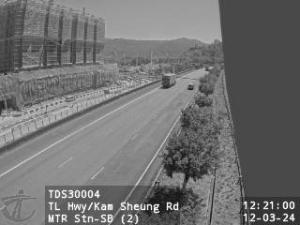truck: (162, 74, 176, 88)
vehicle: (67, 97, 75, 101), (189, 84, 193, 89)
